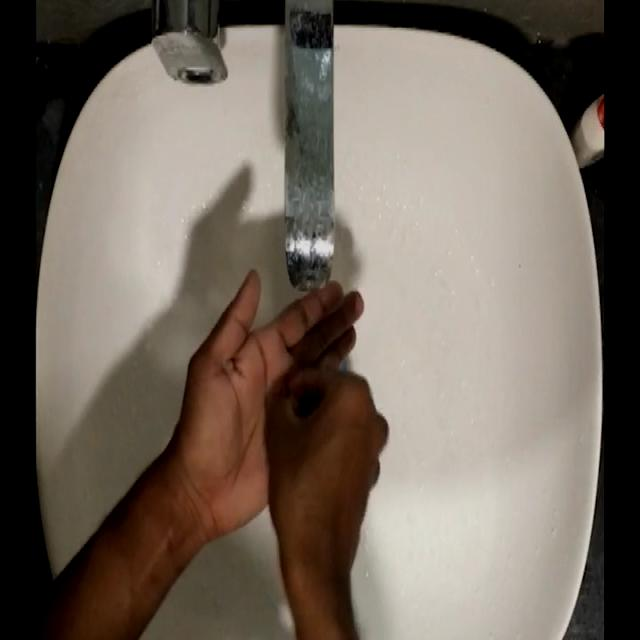step_6: (178, 268, 396, 571)
